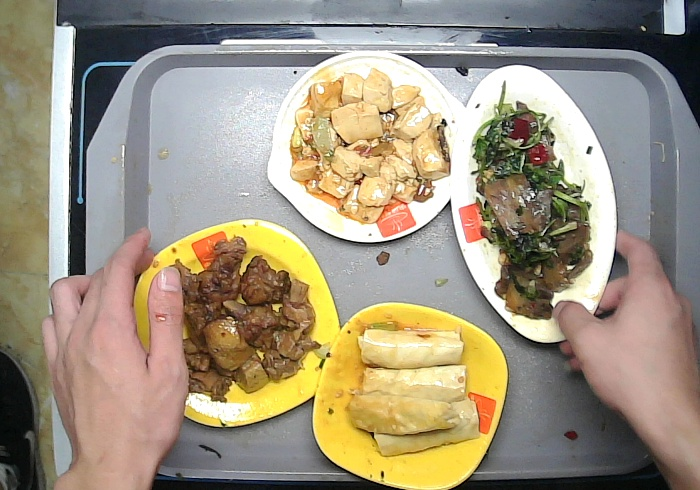SHKJ-Bao_Yu_Pan: (261, 41, 475, 253)
SHKJ-Huang_Se_Cai_Die: (307, 299, 512, 490)
SHKJ-Huang_Se_Si_Fang_Cai_Die: (123, 213, 348, 432)
SHKJ-Yu_Pan: (446, 57, 620, 356)
